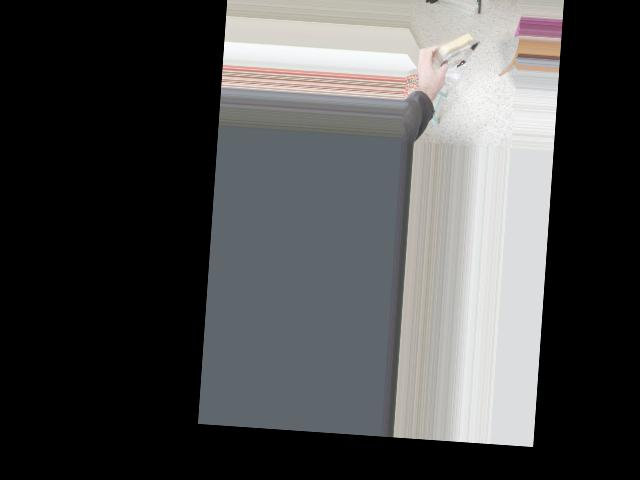cheese: (410, 20, 489, 85)
